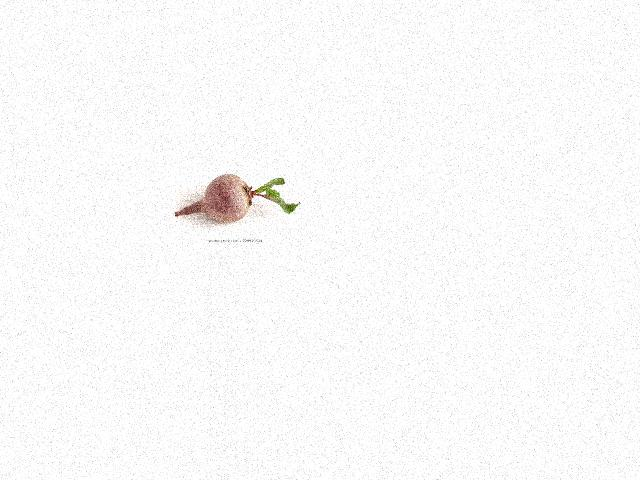beet: (176, 174, 301, 223)
